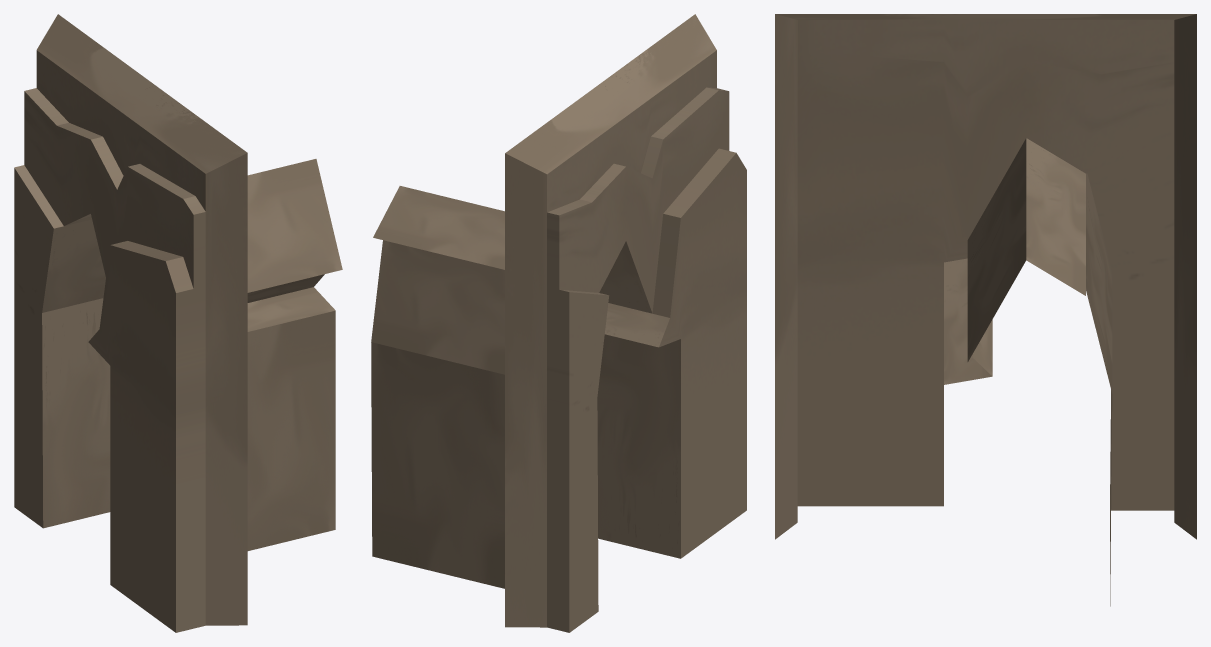
Rendered from secret_cave_door.fbx.
3 renders of one model, left to right at view 1: azimuth 30°, elevation 25°; view 2: azimuth 150°, elevation 25°; view 3: azimuth 270°, elevation 25°, orthographic. The views are drawn at different scales.
Visible parts, largest first — view 1: secret_passage_wall; view 2: secret_passage_wall; view 3: secret_passage_wall.
Boxes of the visible parts, <box> form: secret_passage_wall: <box>14,14,342,632</box>; secret_passage_wall: <box>371,14,746,632</box>; secret_passage_wall: <box>775,14,1196,606</box>.
Bounding box in the file's own units: 7.67 × 14.25 × 10.36.
Materials: 1 (1 with a texture image).
